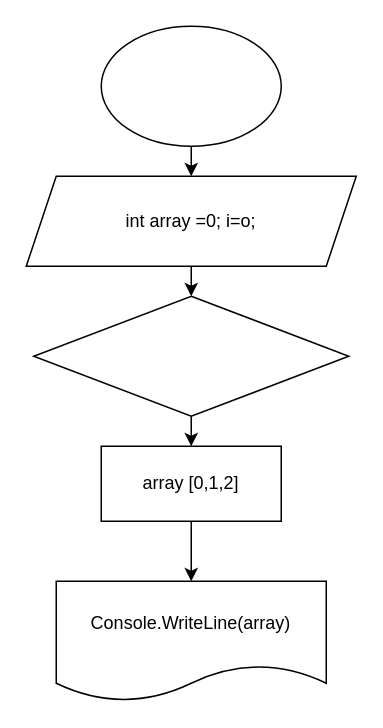
Some shapes in this 383 by 728 pixel diagram are drawn without their labels. Each missing label, with the centre of its shape:
"i<=3" goes at (x=190, y=355).
"начало" goes at (x=190, y=85).
